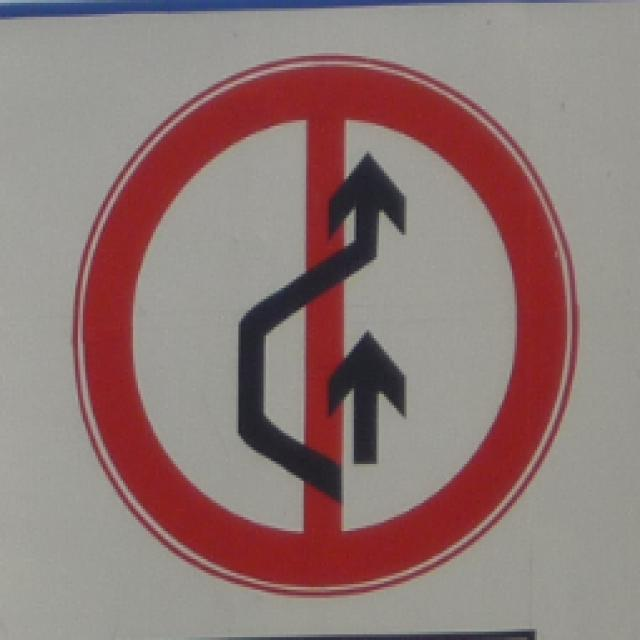Not that Direction: (71, 44, 584, 598)
